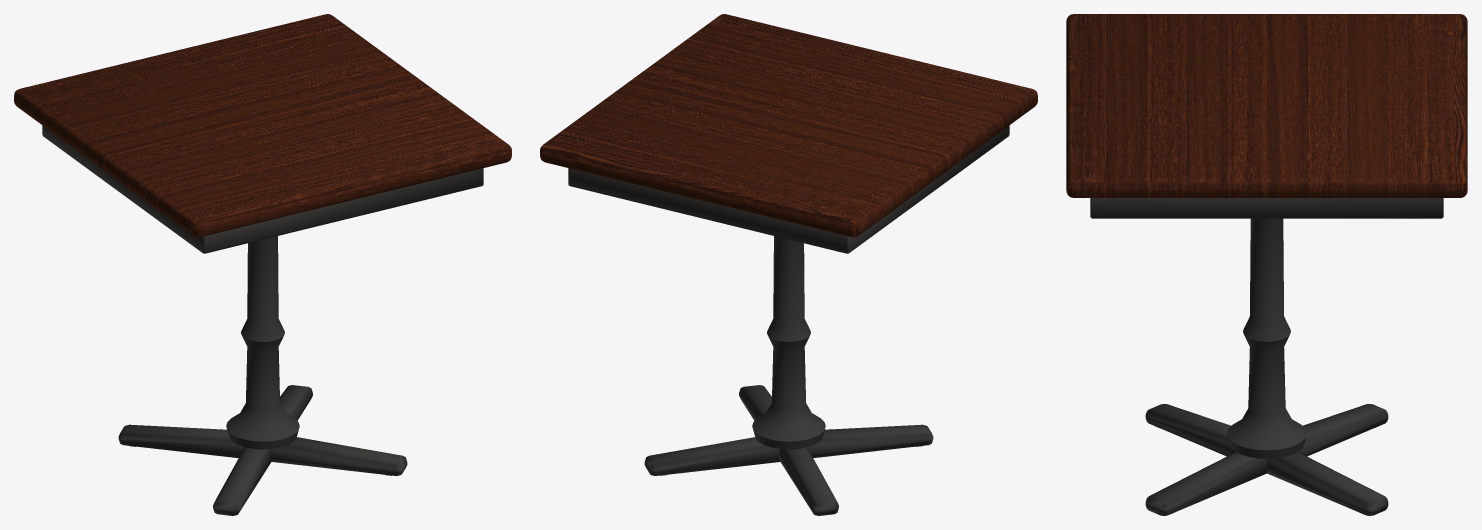
Rendered from booth_table.glb.
3 views of the same model, side by side, from view 1: azimuth 30°, elevation 25°; view 2: azimuth 150°, elevation 25°; view 3: azimuth 270°, elevation 25° (orthographic). The views are drawn at different scales.
Visible parts, largest first — view 1: Top, Cast iron; view 2: Top, Cast iron; view 3: Top, Cast iron.
Part boxes in pixels (box(x1,y1,x2,y2)): Top: box(14, 14, 511, 237); Cast iron: box(42, 125, 483, 515); Top: box(540, 14, 1037, 237); Cast iron: box(568, 125, 1009, 515); Top: box(1066, 14, 1467, 197); Cast iron: box(1090, 198, 1443, 515).
Size of the model in its own units: 0.75 by 0.765 by 0.75.
Materials: 3 (1 with a texture image).
